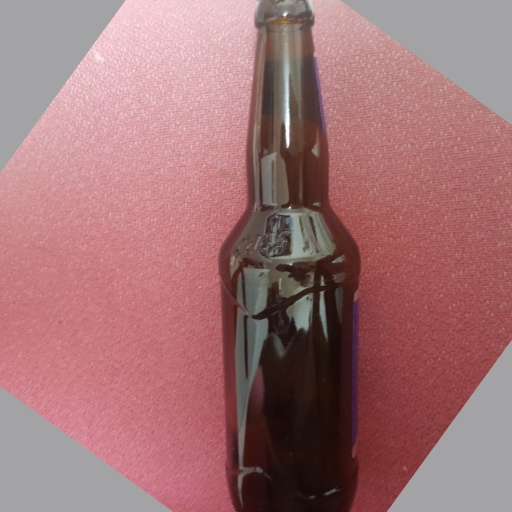Glass_1: (220, 3, 359, 512)
